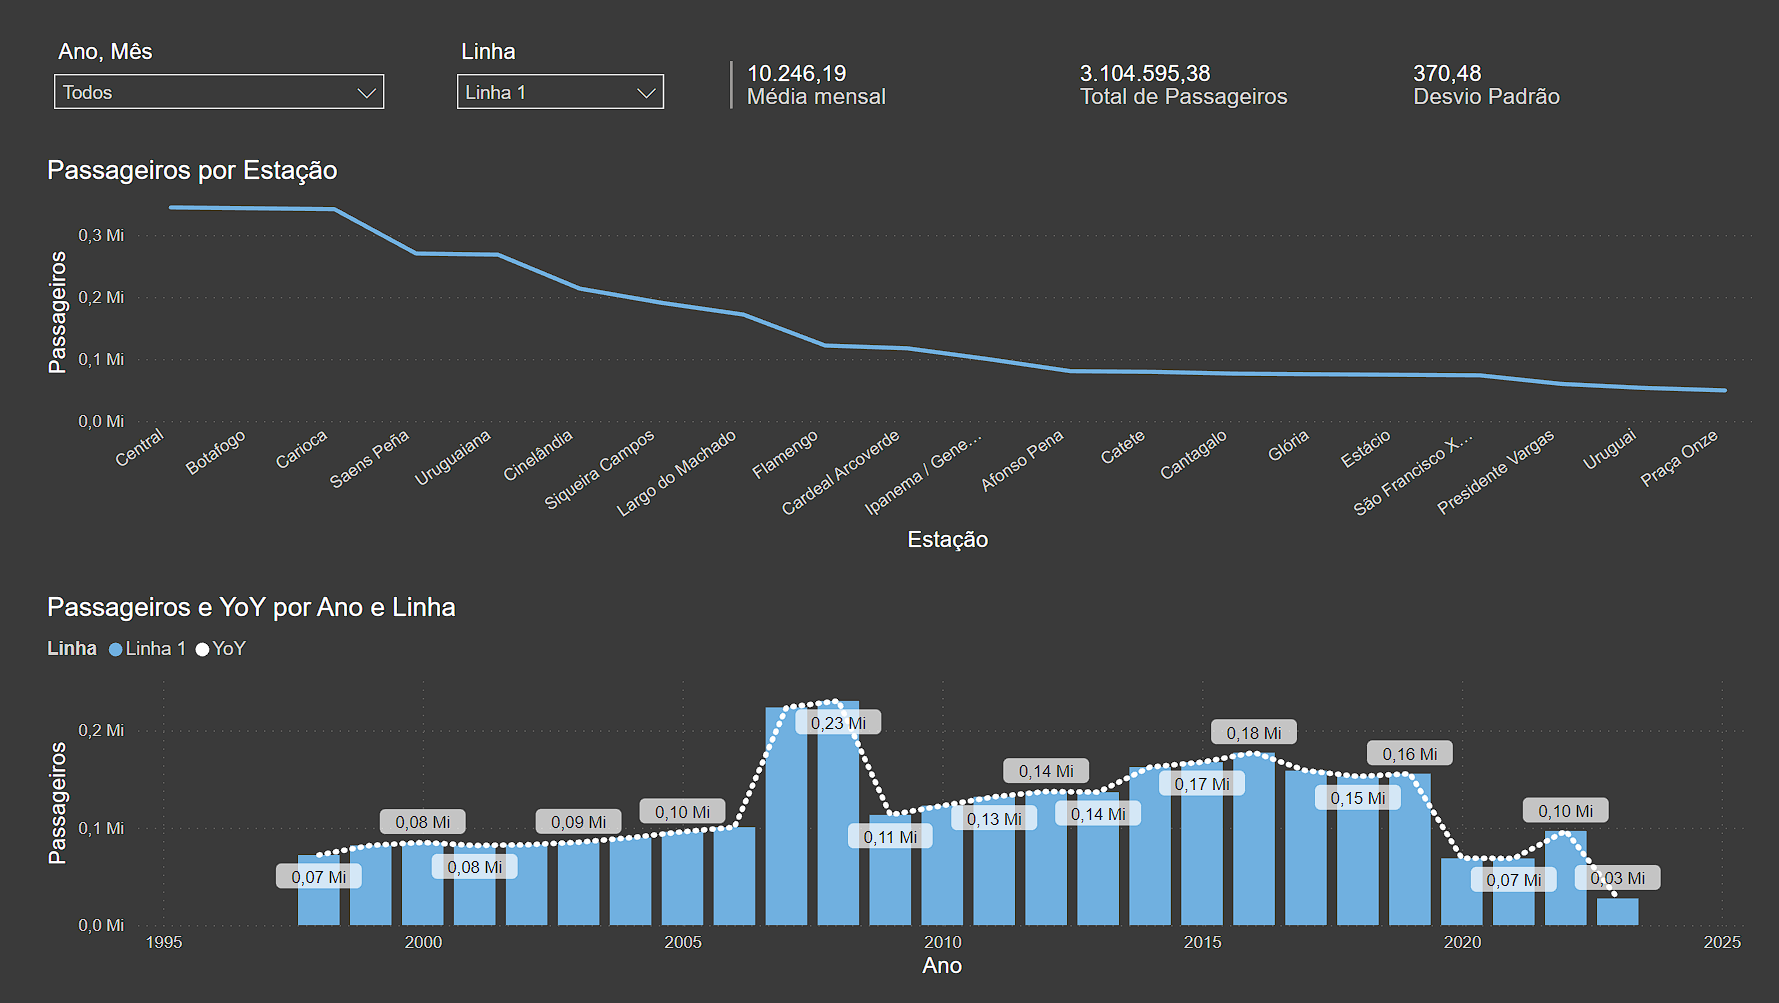

This screenshot's page, from the dashboard's own definition file:
{"tool":"powerbi","page":{"name":"Visão por Linhas","canvas":[1280,720],"ordinal":1},"visuals":[{"type":"lineStackedColumnComboChart","fields":{"Category":["DateDim.Ano"],"Y":["Medidas.Passageiros"],"Series":["Fato.Linha"],"Y2":["Medidas.Variação MoM"]},"box":[32,424,1224,280],"z":0},{"type":"slicer","fields":{"Values":["DateDim.Ano","DateDim.Mês"]},"box":[32,24,256,88],"z":1000},{"type":"slicer","fields":{"Values":["Fato.Linha"]},"box":[320,24,168,88],"z":2000},{"type":"multiRowCard","fields":{"Values":["Medidas.Média mensal","Medidas.Passageiros","Medidas.Desvio Padrão"]},"box":[520,40,736,48],"z":3000},{"type":"lineChart","fields":{"Category":["Fato.Estação"],"Y":["Medidas.Passageiros"]},"box":[32,112,1232,288],"z":4000}]}

Visuals, with their boxes in screenshot pixels (x1, y1, x2, y2), scaled from the page's 1280x720 canvas onto the 1779x1003 screenshot:
lineStackedColumnComboChart - DateDim.Ano x Medidas.Passageiros: (x1=44, y1=591, x2=1746, y2=981)
slicer - DateDim.Ano x DateDim.Mês: (x1=44, y1=33, x2=400, y2=156)
slicer - Fato.Linha: (x1=445, y1=33, x2=678, y2=156)
multiRowCard - Medidas.Média mensal x Medidas.Passageiros: (x1=723, y1=56, x2=1746, y2=123)
lineChart - Fato.Estação x Medidas.Passageiros: (x1=44, y1=156, x2=1757, y2=557)
